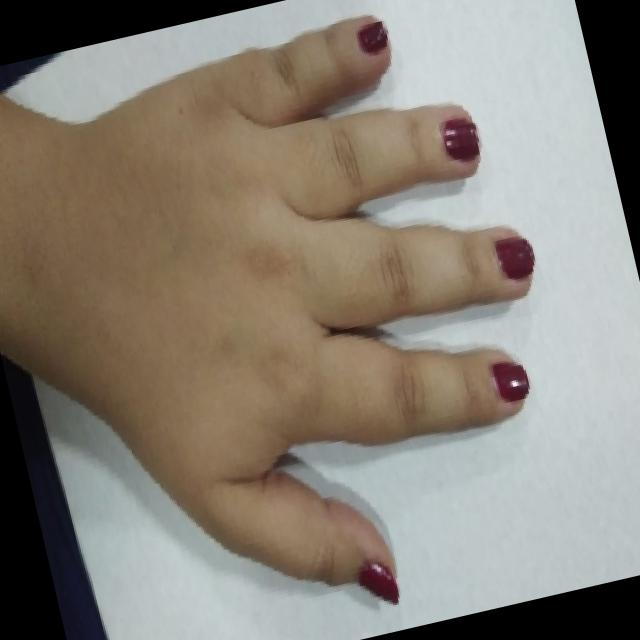Nail: (494, 235, 533, 280), (357, 562, 398, 604), (440, 118, 479, 161), (490, 361, 529, 402), (356, 20, 387, 54)
